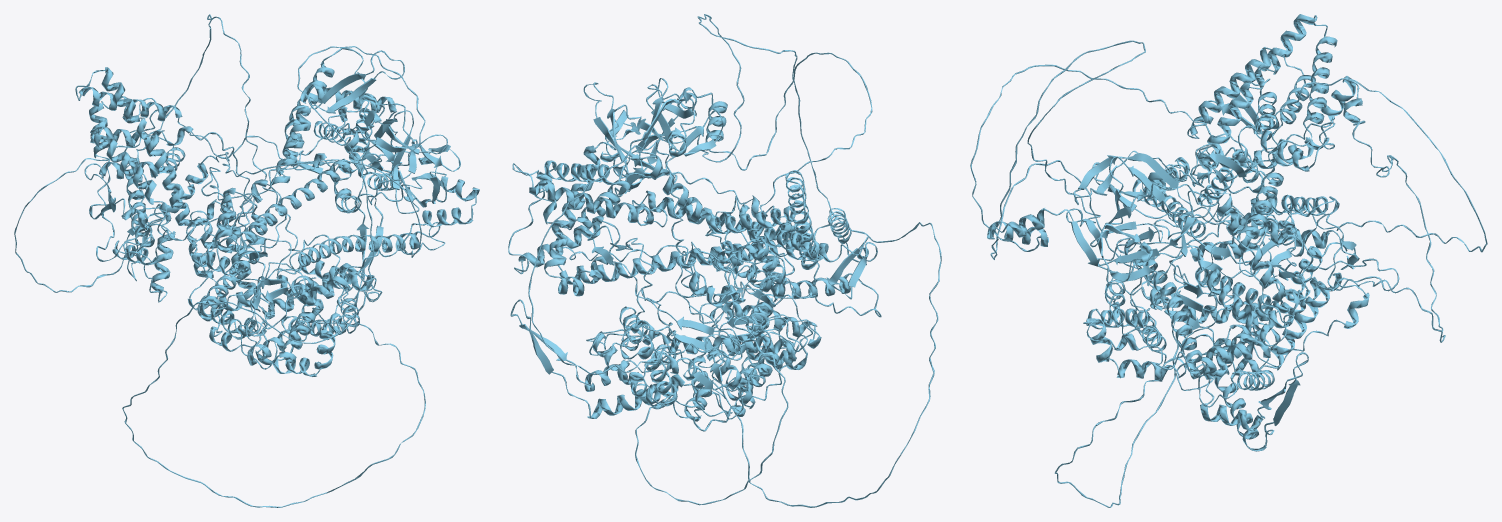
3 renders of one model, left to right at view 1: azimuth 30°, elevation 25°; view 2: azimuth 150°, elevation 25°; view 3: azimuth 270°, elevation 25°, orthographic. The views are drawn at different scales.
Size of the model in its own units: 108 by 137 by 134.
